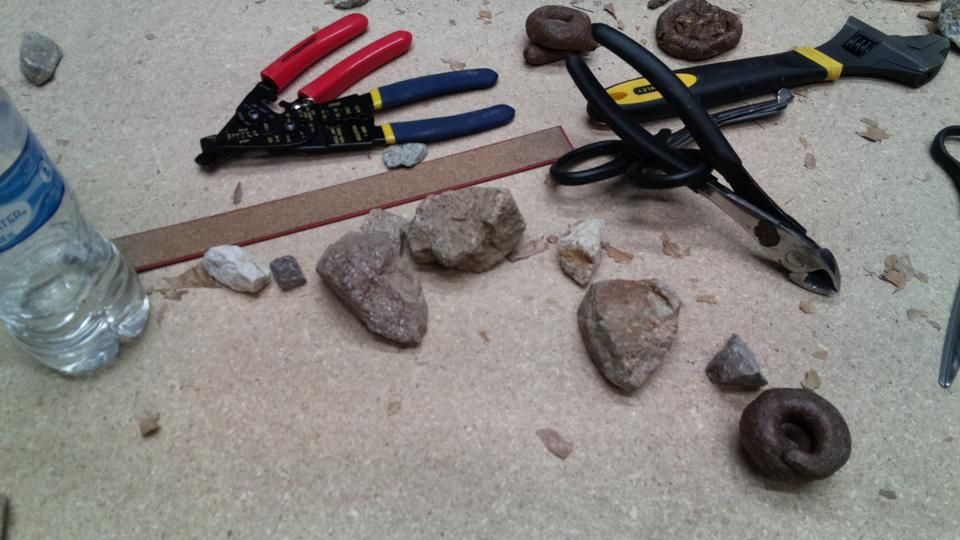poop: (734, 383, 854, 491), (653, 1, 744, 63), (516, 2, 602, 67)
